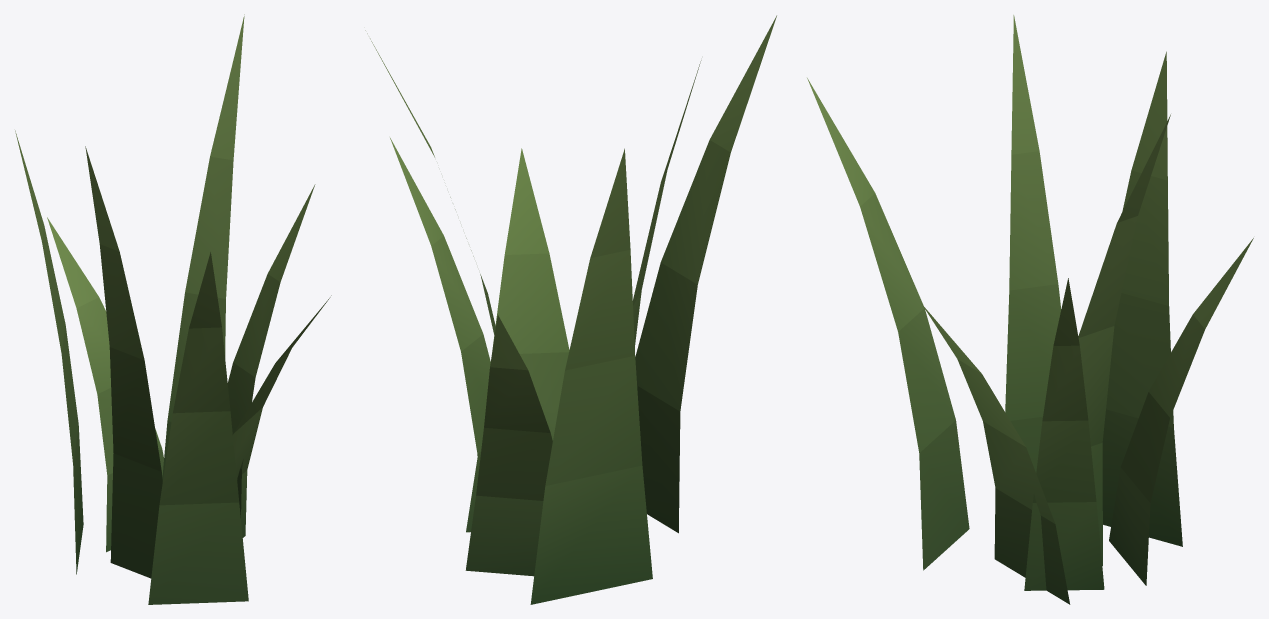
File: grass_clump_01.glb
3 renders of one model, left to right at view 1: azimuth 30°, elevation 25°; view 2: azimuth 150°, elevation 25°; view 3: azimuth 270°, elevation 25°, orthographic. The views are drawn at different scales.
Visible parts, largest first — view 1: Grass_Clump; view 2: Grass_Clump; view 3: Grass_Clump.
Boxes of the visible parts, x1=… form: Grass_Clump: x1=15, y1=14, x2=331, y2=604; Grass_Clump: x1=365, y1=15, x2=776, y2=604; Grass_Clump: x1=807, y1=15, x2=1253, y2=604.
Size of the model in its own units: 0.2951 by 0.525 by 0.4133.
